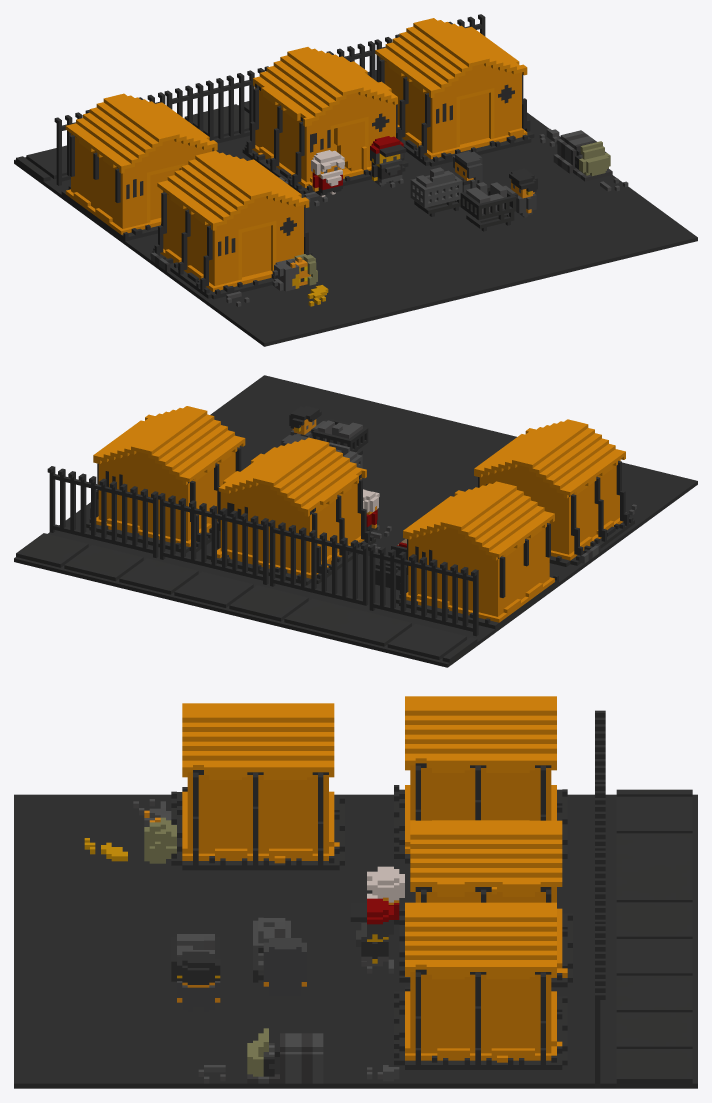
Rendered from scene_tentcity2.obj.
3 renders of one model, top to bottom at view 1: azimuth 30°, elevation 25°; view 2: azimuth 150°, elevation 25°; view 3: azimuth 270°, elevation 25°, orthographic. The views are drawn at different scales.
Bounding box in the file's own units: 126 × 26 × 126.
